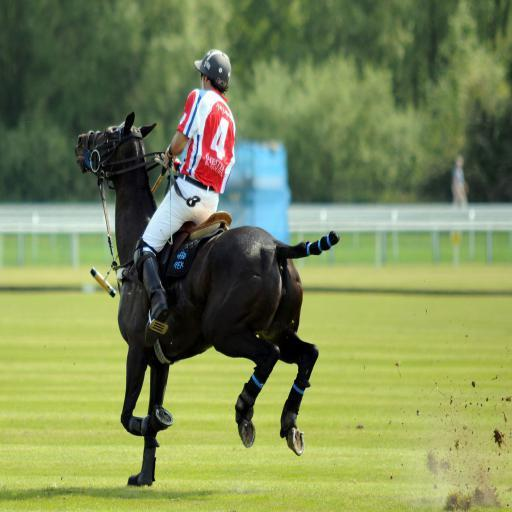horse: (72, 108, 340, 486)
